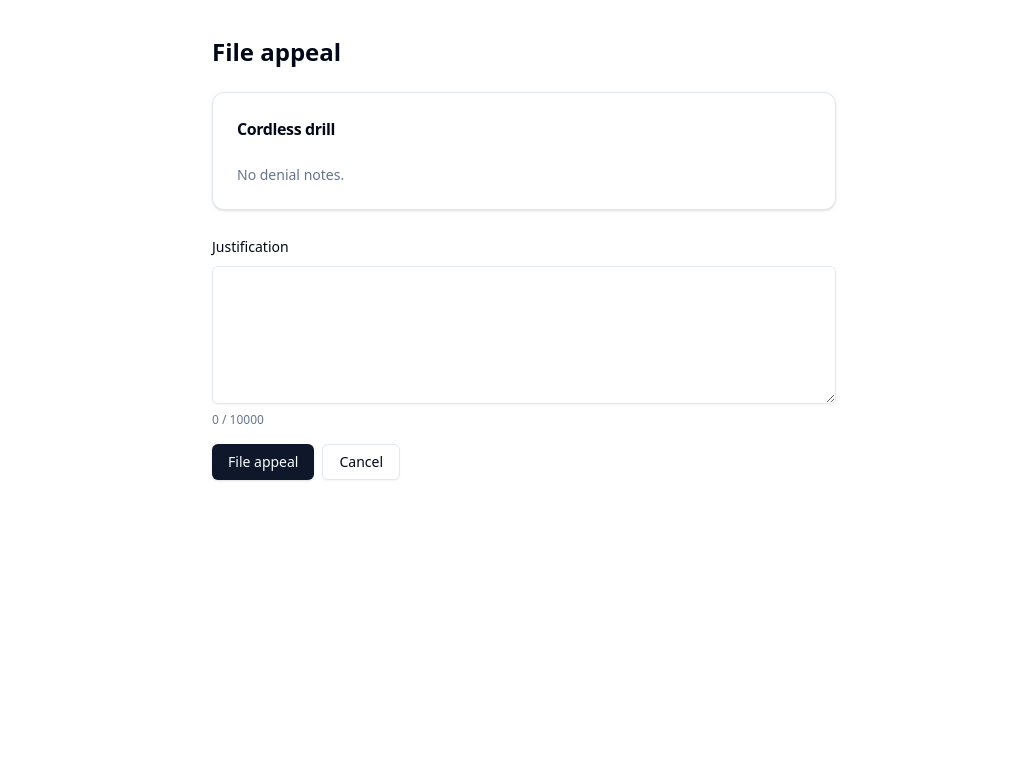
Test: NewAppealPage › submits POST /api/appeals and navigates to /requests/:requestId
In the text box labelled "Justification": point(524, 335) [212,266,836,404], type "I really need this for work."
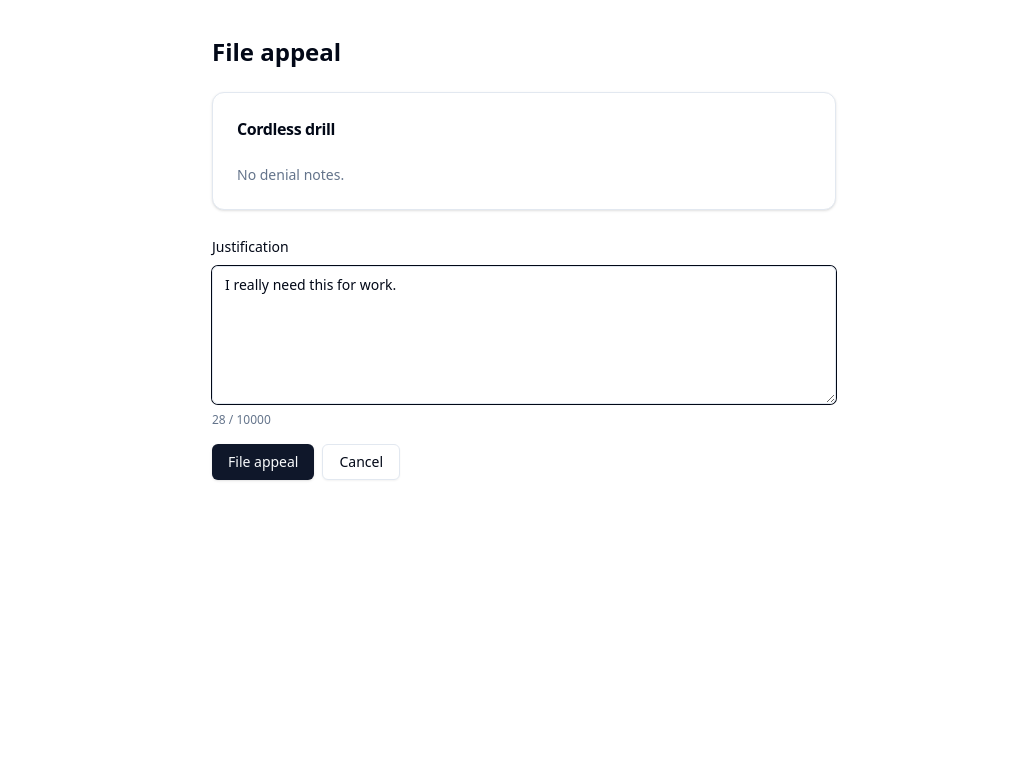
Click the button "File appeal": point(263, 462) [212,444,314,480]
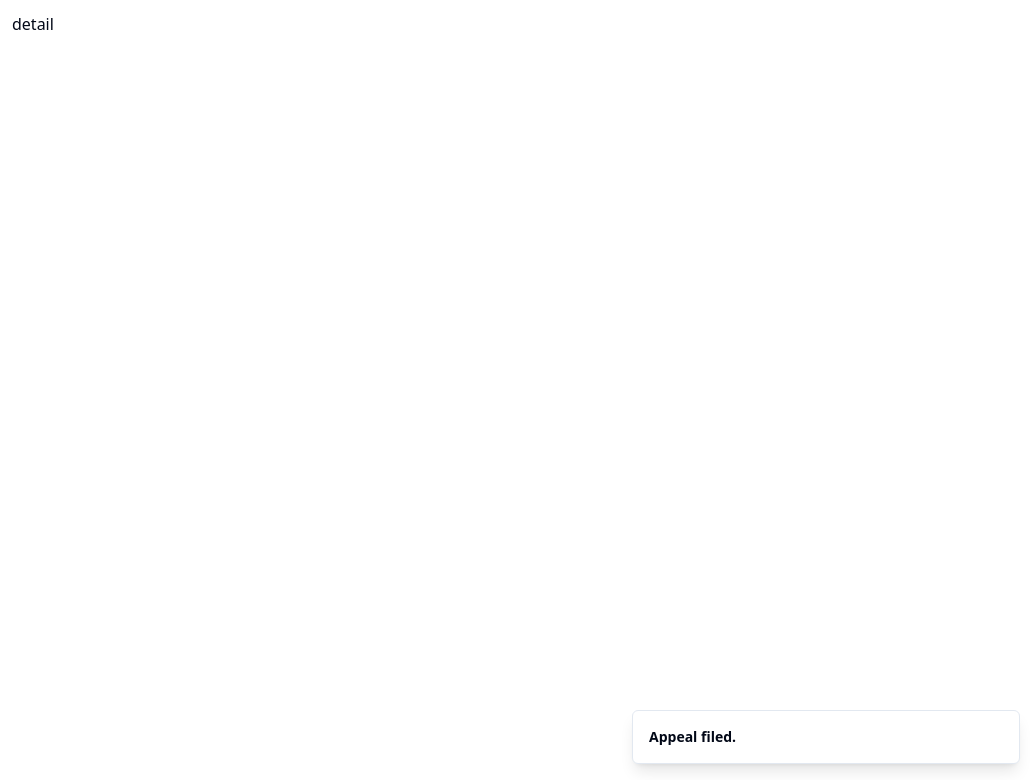
Now the text "detail" is shown, box [12,13,54,35]
